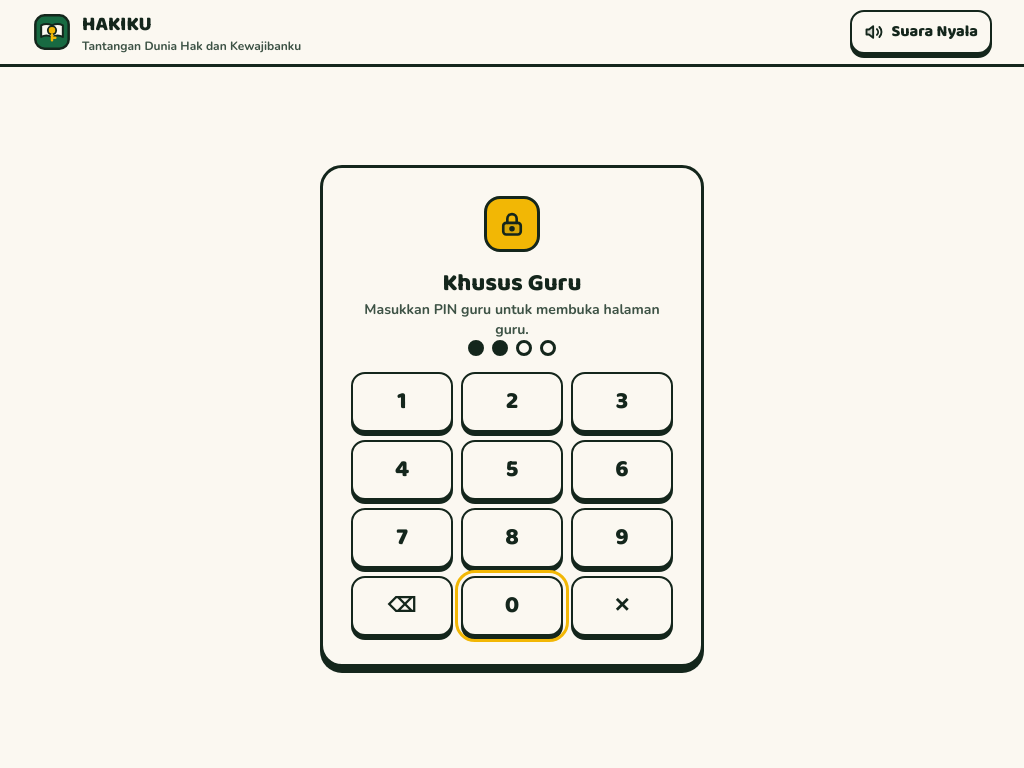
Test case: Aplikasi HAKIKU hybrid › PIN salah 3 kali mengunci tombol angka sementara
Earlier steps of the test are not shown.
Click the button "0" at x=512, y=606, box [461,576,563,636]
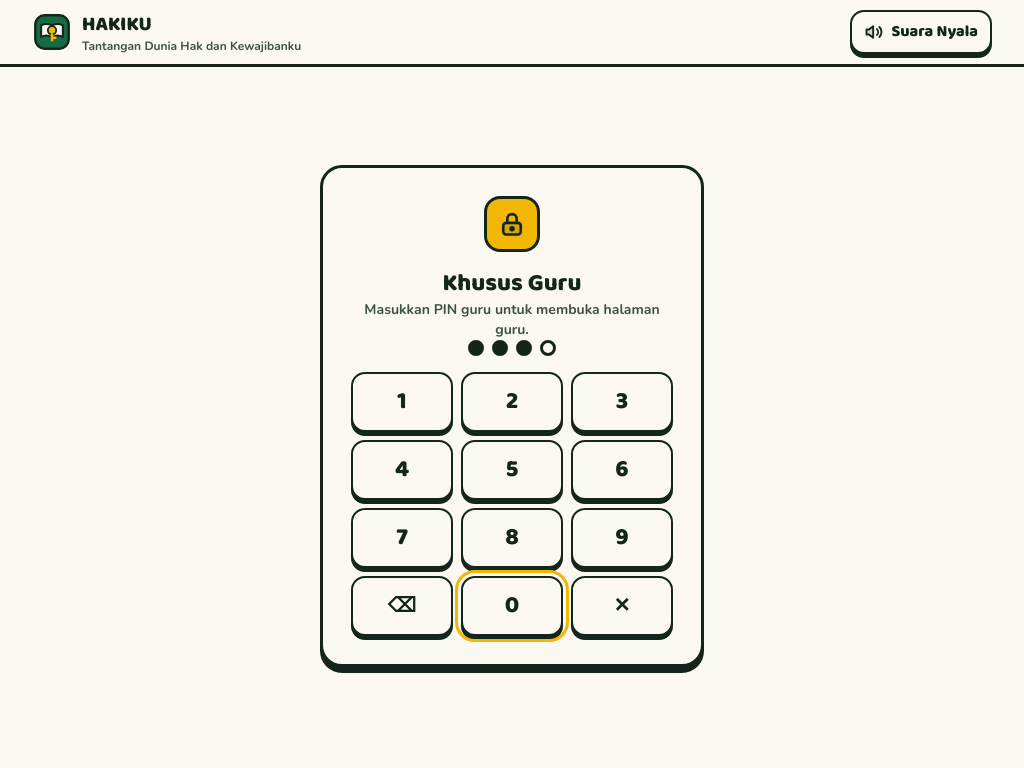
Click the button "0" at x=512, y=606, box [461,576,563,636]
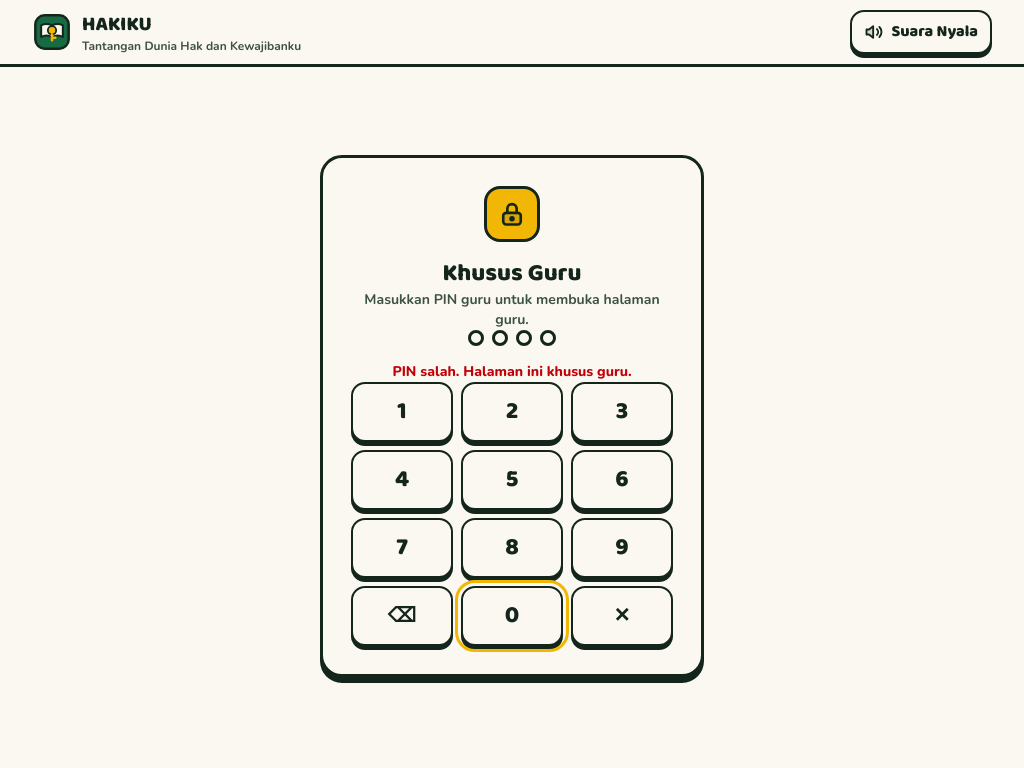
Click the button "0" at x=512, y=616, box [461,586,563,646]
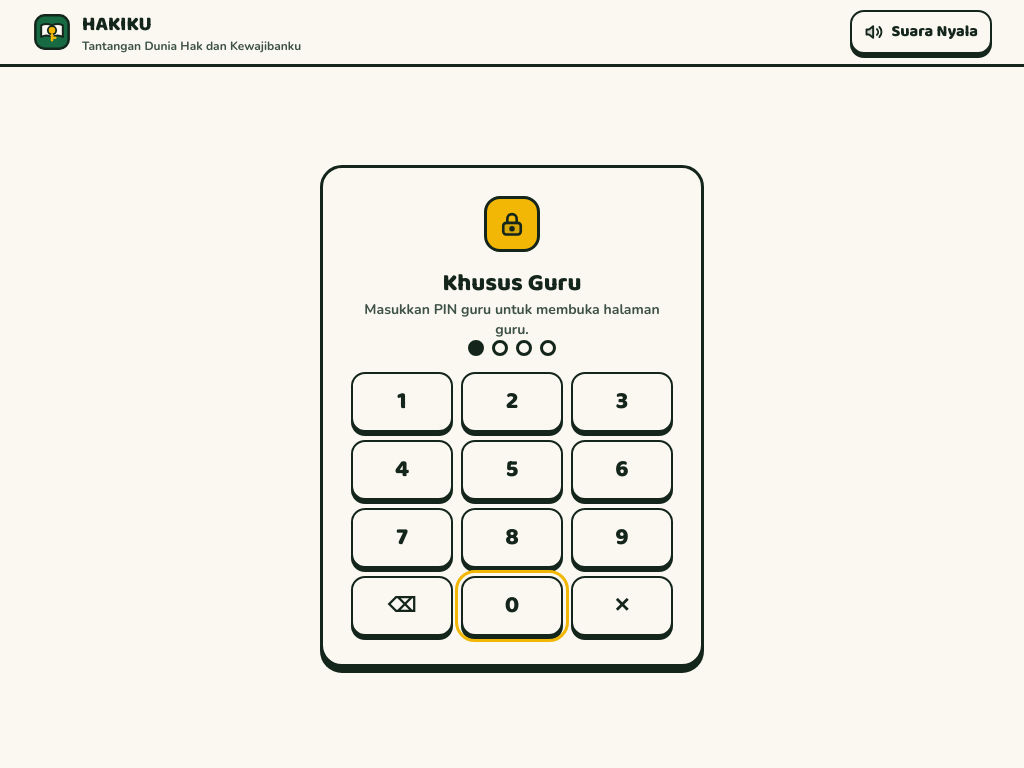
Click the button "0" at x=512, y=606, box [461,576,563,636]
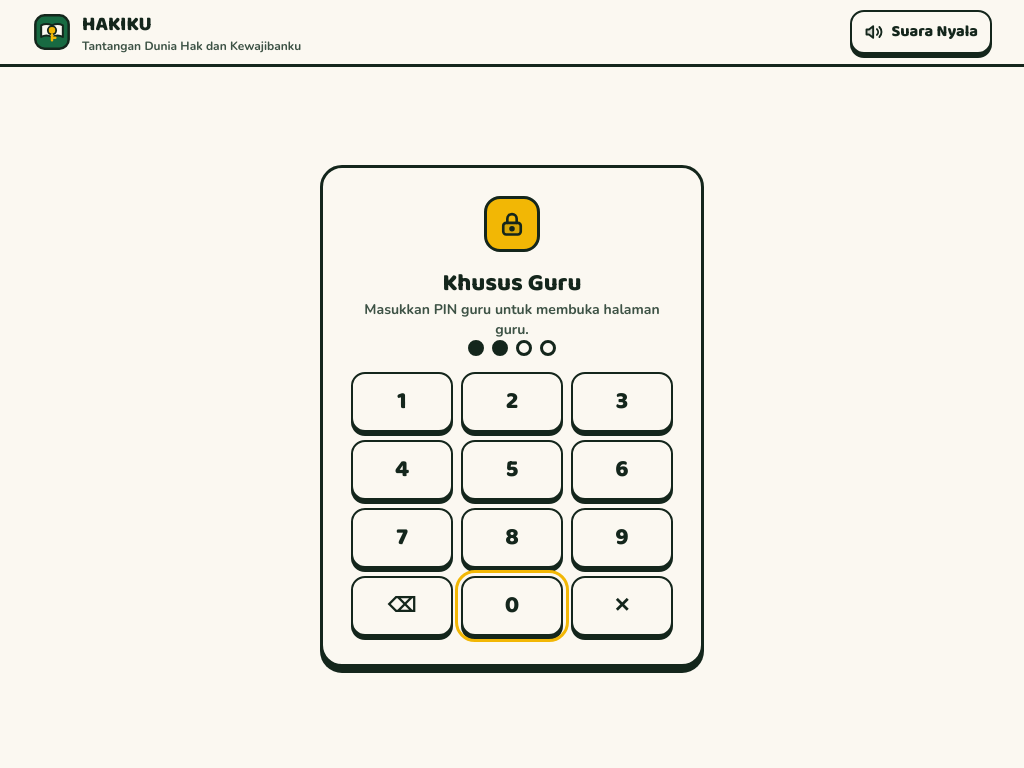
Click the button "0" at x=512, y=606, box [461,576,563,636]
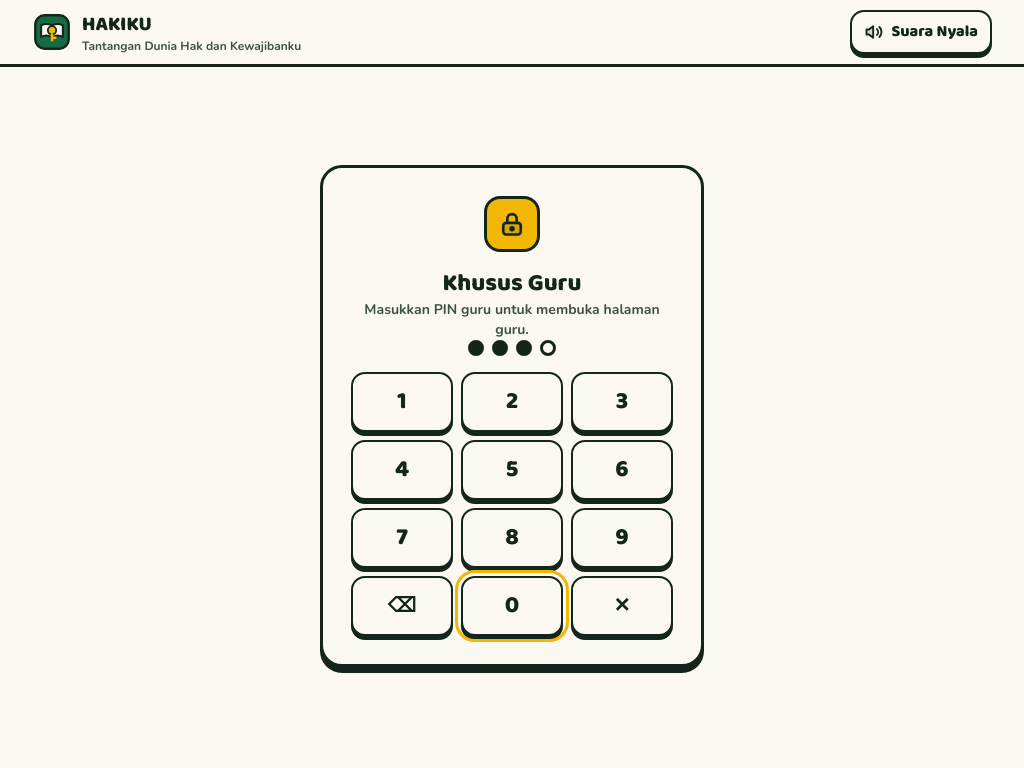
Click the button "0" at x=512, y=606, box [461,576,563,636]
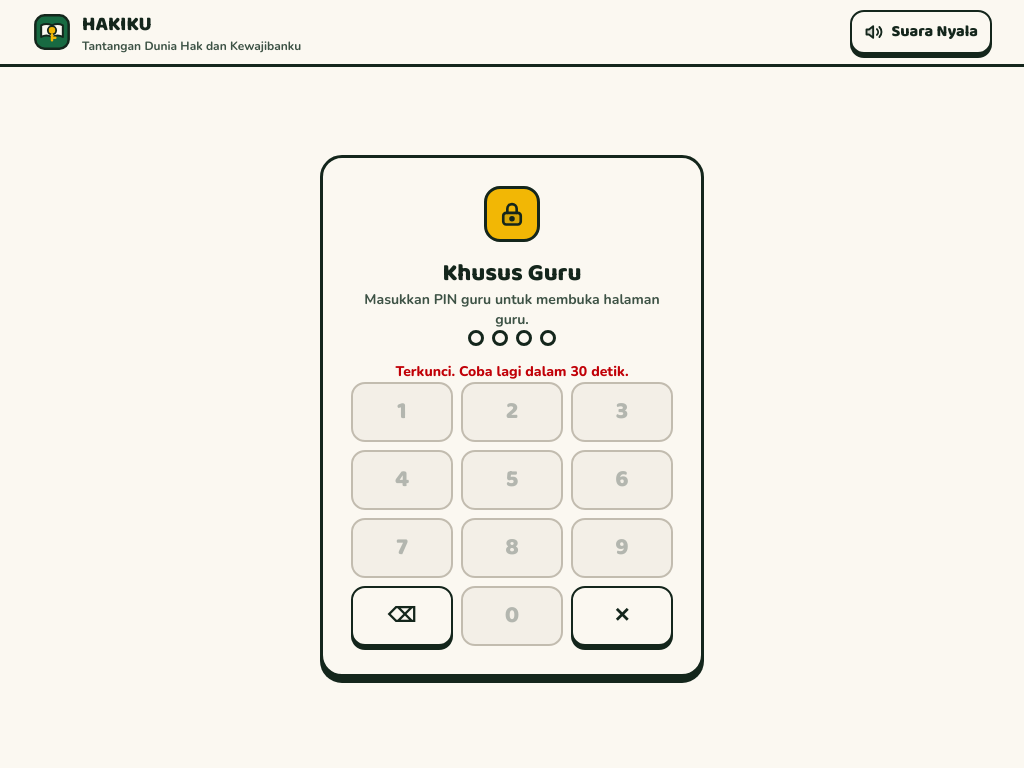
Check: the message shows "Terkunci", box [395,362,629,381]
Check: the button "5" is disabled, box [461,450,563,510]
